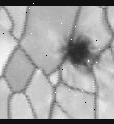good_void: (59, 34, 95, 67)
